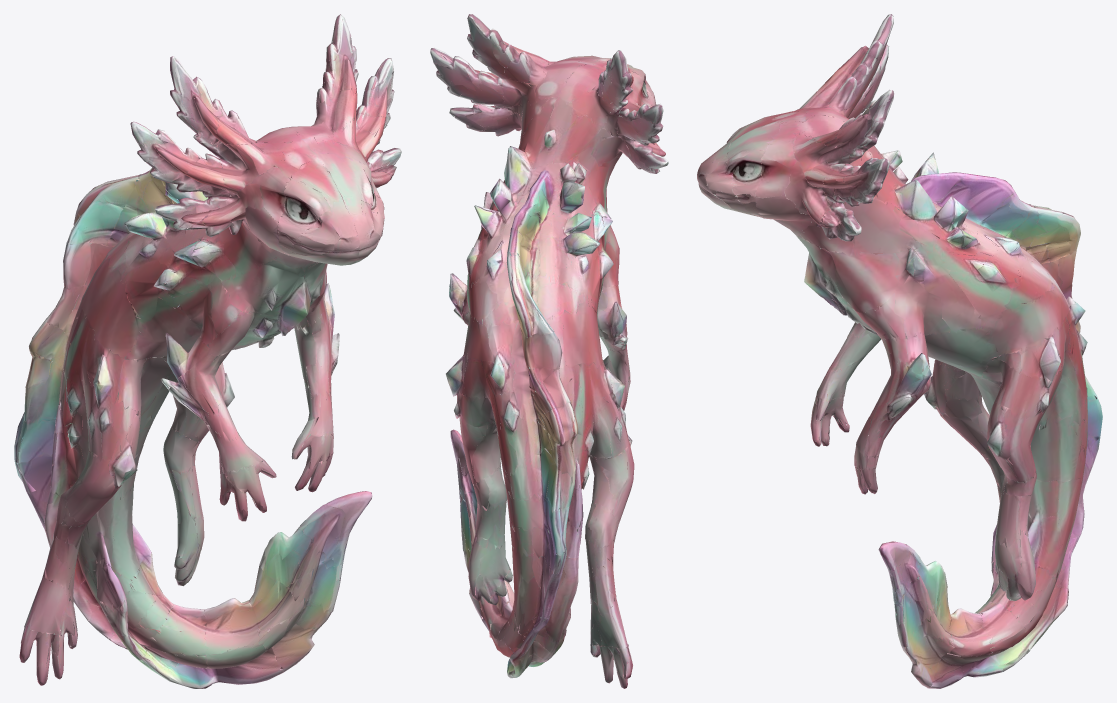
The picture shows the model from 3 angles, left to right: view 1: azimuth 30°, elevation 25°; view 2: azimuth 150°, elevation 25°; view 3: azimuth 270°, elevation 25°; orthographic projection. The views are drawn at different scales.
Visible parts, largest first — view 1: Mesh_0; view 2: Mesh_0; view 3: Mesh_0.
Part boxes in pixels (x1=…): Mesh_0: x1=14, y1=14, x2=401, y2=688; Mesh_0: x1=430, y1=14, x2=668, y2=688; Mesh_0: x1=697, y1=14, x2=1102, y2=688.
Size of the model in its own units: 0.8762 by 1.9 by 1.11.
1 material, 1 textured.
